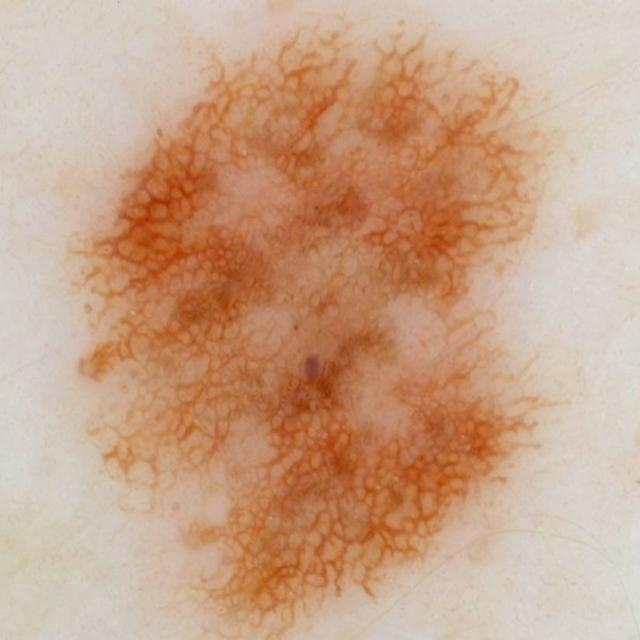Benign: (52, 23, 560, 626)
